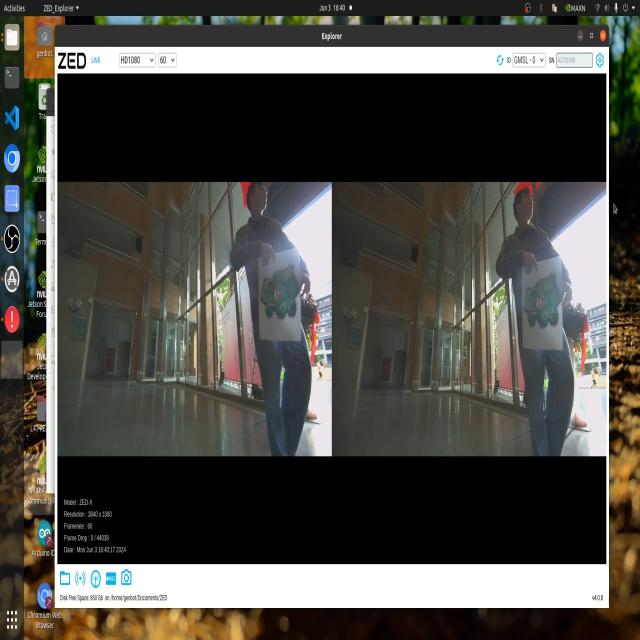green: (255, 260, 302, 321), (524, 269, 561, 333)
